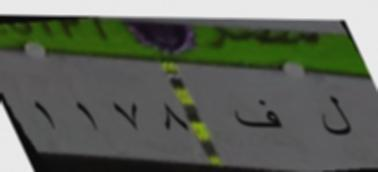1: (31, 95, 62, 140), (76, 100, 102, 138)
7: (105, 91, 146, 140)
8: (151, 100, 193, 138)
faa: (232, 96, 287, 138)
laam: (314, 88, 356, 148)
